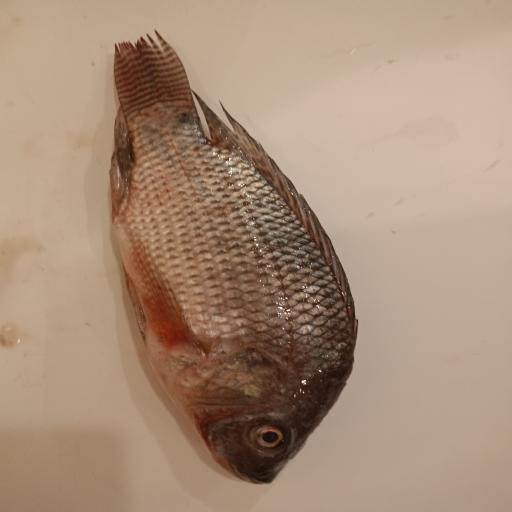Tilapia: (109, 30, 358, 485)
